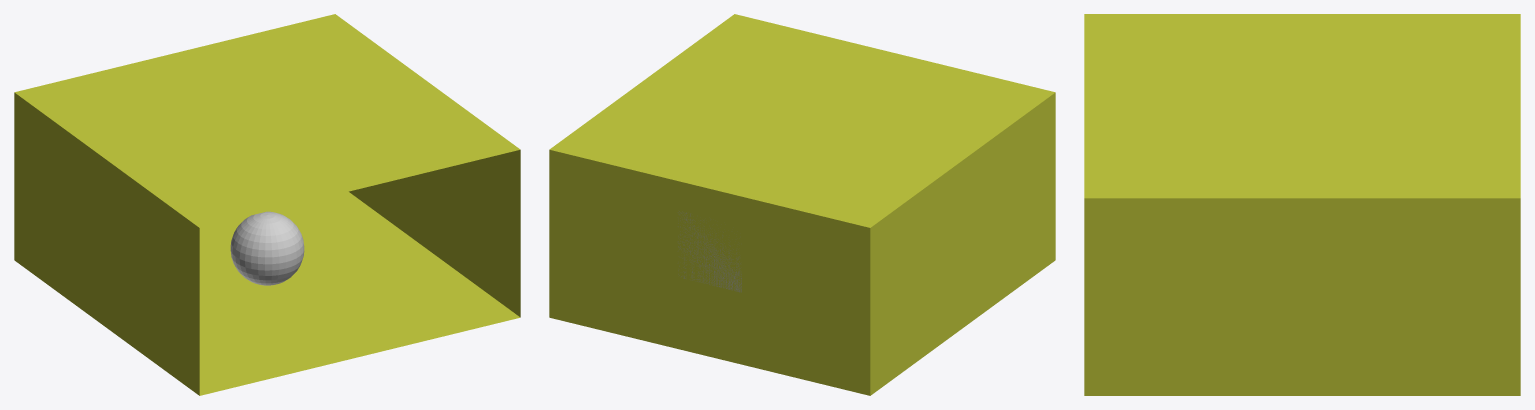
Rendered from sphere_air.obj.
3 views of the same model, side by side, from view 1: azimuth 30°, elevation 25°; view 2: azimuth 150°, elevation 25°; view 3: azimuth 270°, elevation 25° (orthographic). The views are drawn at different scales.
Visible parts, largest first — view 1: ceiling, floor, leftwall, rightwall, Sphere; view 2: ceiling, backwall, leftwall, light; view 3: rightwall, ceiling.
Part boxes in pixels (x1,y1,x2,y2): ceiling: [15, 14, 519, 227]; floor: [199, 191, 519, 395]; leftwall: [14, 92, 199, 395]; rightwall: [349, 149, 520, 317]; Sphere: [230, 211, 304, 285]; ceiling: [550, 14, 1054, 227]; backwall: [549, 149, 870, 395]; leftwall: [870, 92, 1055, 395]; light: [678, 211, 741, 292]; rightwall: [1084, 198, 1520, 395]; ceiling: [1084, 14, 1520, 198].
Bounding box in the file's own units: 10 × 5 × 10.
